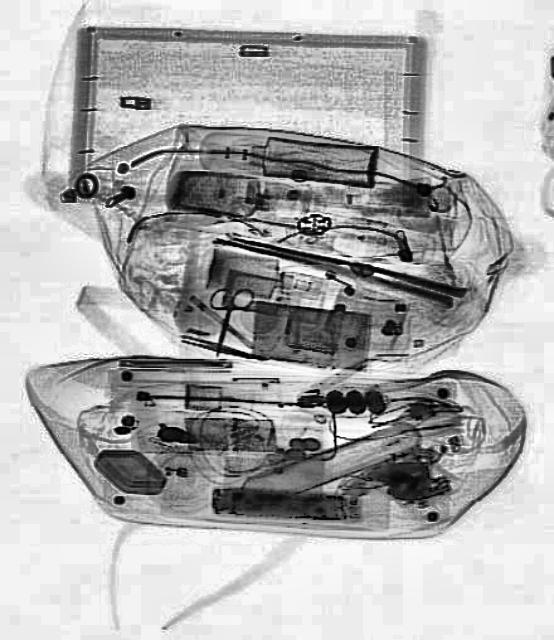Scissors: (193, 278, 254, 360)
